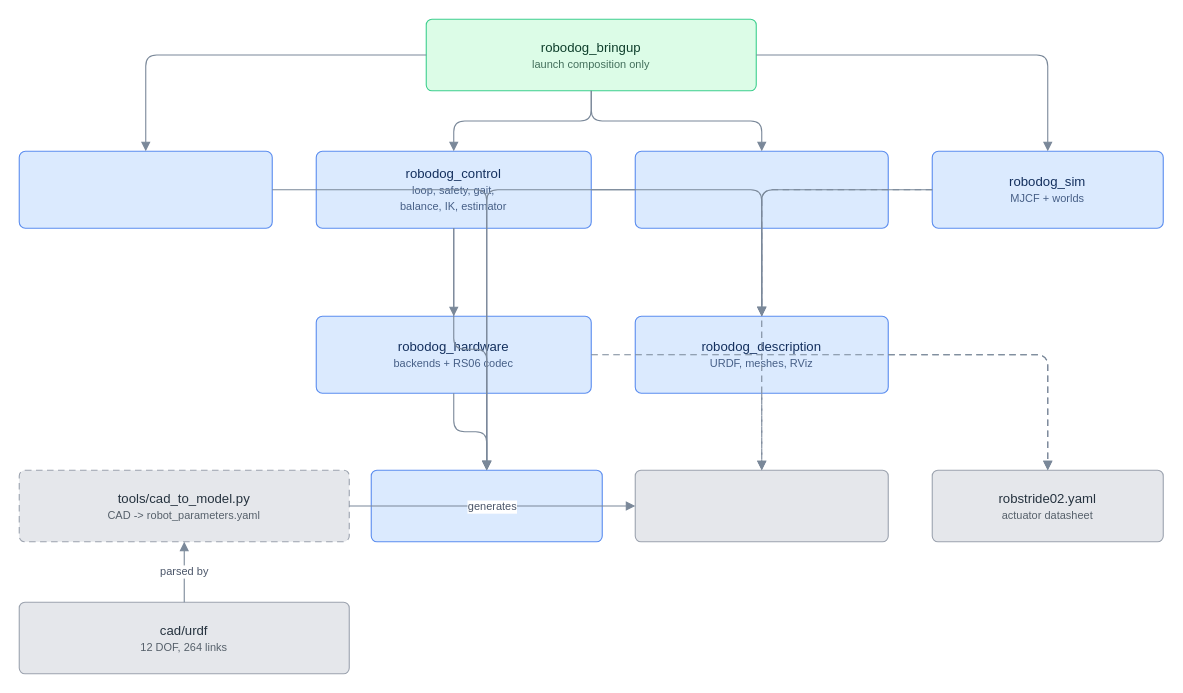
Image size: 1183x693. Some labels were removed from this diagram. The shapes that lost their labels are listed below. From the top down, each one's centre as x and y in pixels, then its label:
At point (145, 189): "robodog_web GUI server + protocol".
At point (761, 189): "robodog_perception camera + point cloud".
At point (486, 505): "robodog_msgs msg / srv definitions".
At point (761, 505): "robot_parameters.yaml single source of truth".
